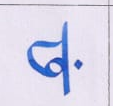anusvara: (75, 60, 82, 68)
